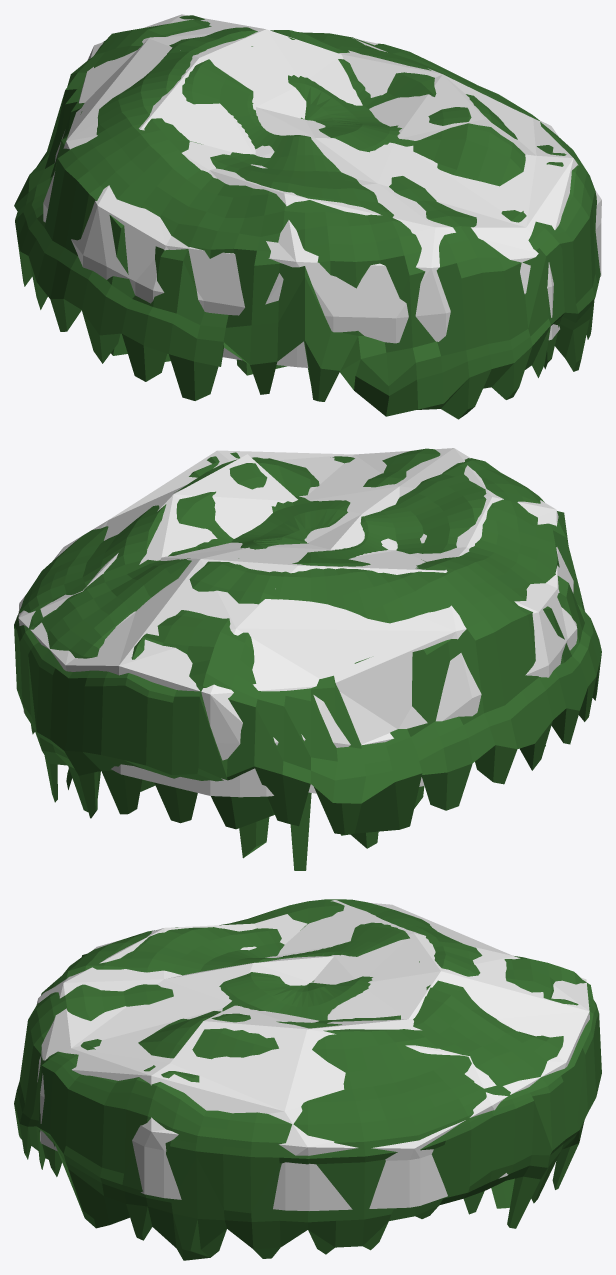
File: agactepe_ust_revize.fbx
3 views of the same model, one above another, from view 1: azimuth 30°, elevation 25°; view 2: azimuth 150°, elevation 25°; view 3: azimuth 270°, elevation 25° (orthographic). The views are drawn at different scales.
Visible parts, largest first — view 1: Sphere.003, Sphere.001; view 2: Sphere.003, Sphere.001; view 3: Sphere.003, Sphere.001.
Boxes of the visible parts, left/top/right/bottom form: Sphere.003: left=14, top=15, right=600, bottom=419; Sphere.001: left=43, top=14, right=601, bottom=367; Sphere.003: left=14, top=448, right=601, bottom=870; Sphere.001: left=18, top=448, right=577, bottom=797; Sphere.003: left=14, top=899, right=601, bottom=1260; Sphere.001: left=36, top=900, right=589, bottom=1210.
Size of the model in its own units: 30.67 by 14.72 by 35.77.
